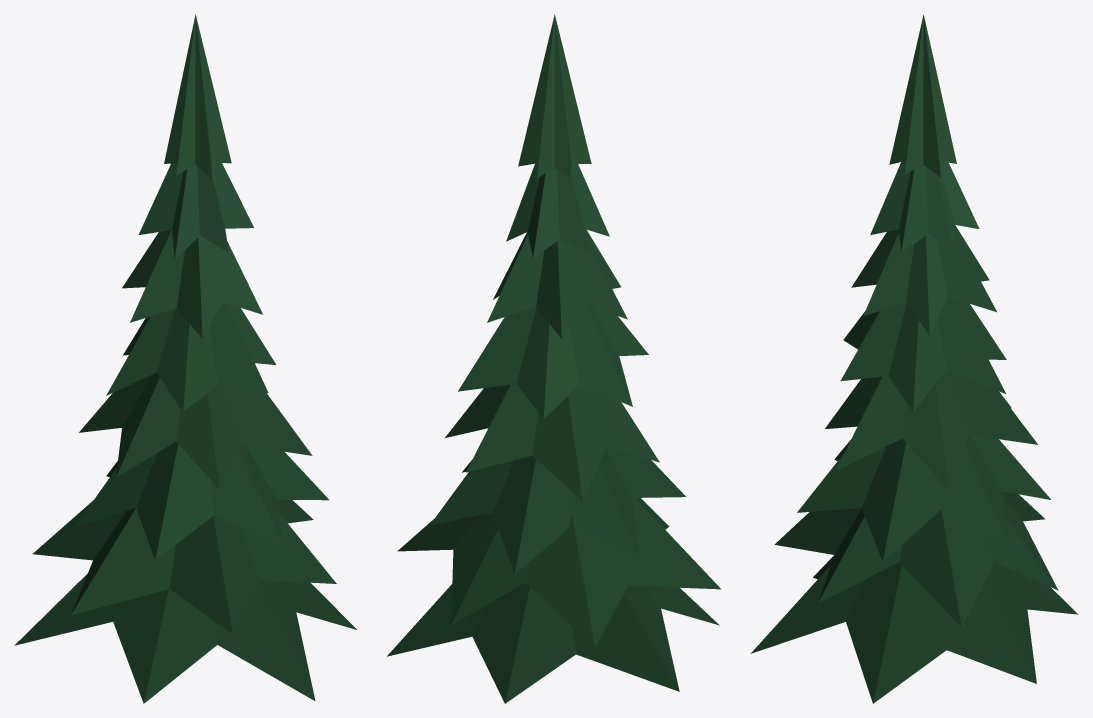
Rendered from spruce_a.glb.
3 renders of one model, left to right at view 1: azimuth 30°, elevation 25°; view 2: azimuth 150°, elevation 25°; view 3: azimuth 270°, elevation 25°, orthographic.
Parts seen in each view (by area): view 1: spruce_a; view 2: spruce_a; view 3: spruce_a.
Part boxes in pixels (x1=…): spruce_a: x1=14, y1=14, x2=356, y2=703; spruce_a: x1=387, y1=14, x2=720, y2=703; spruce_a: x1=750, y1=15, x2=1078, y2=703.
Bounding box in the file's own units: 5.06 × 10.51 × 5.01.
